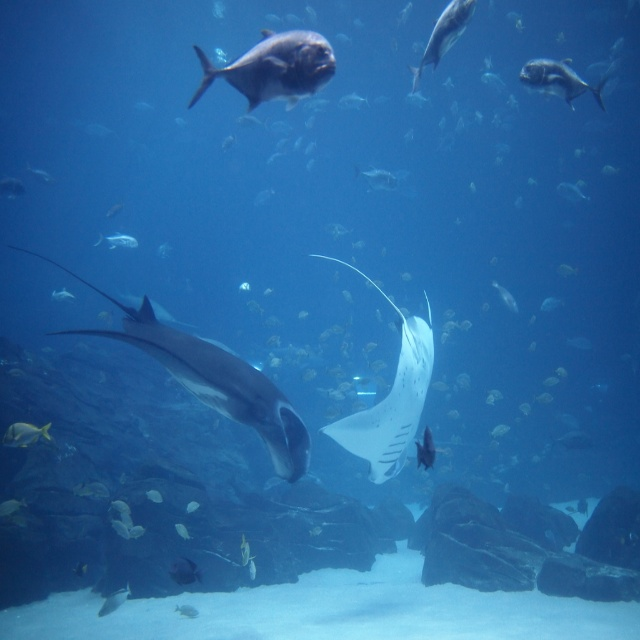Fish: (0, 0, 640, 618)
